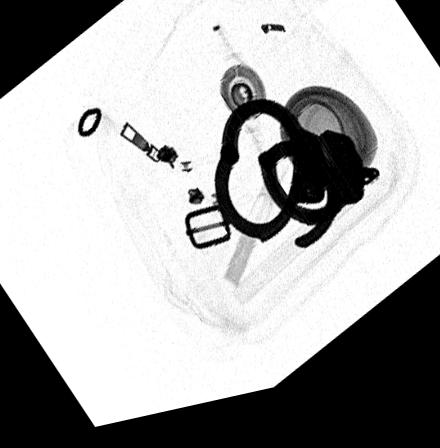HandCuffs: (211, 108, 384, 266)
